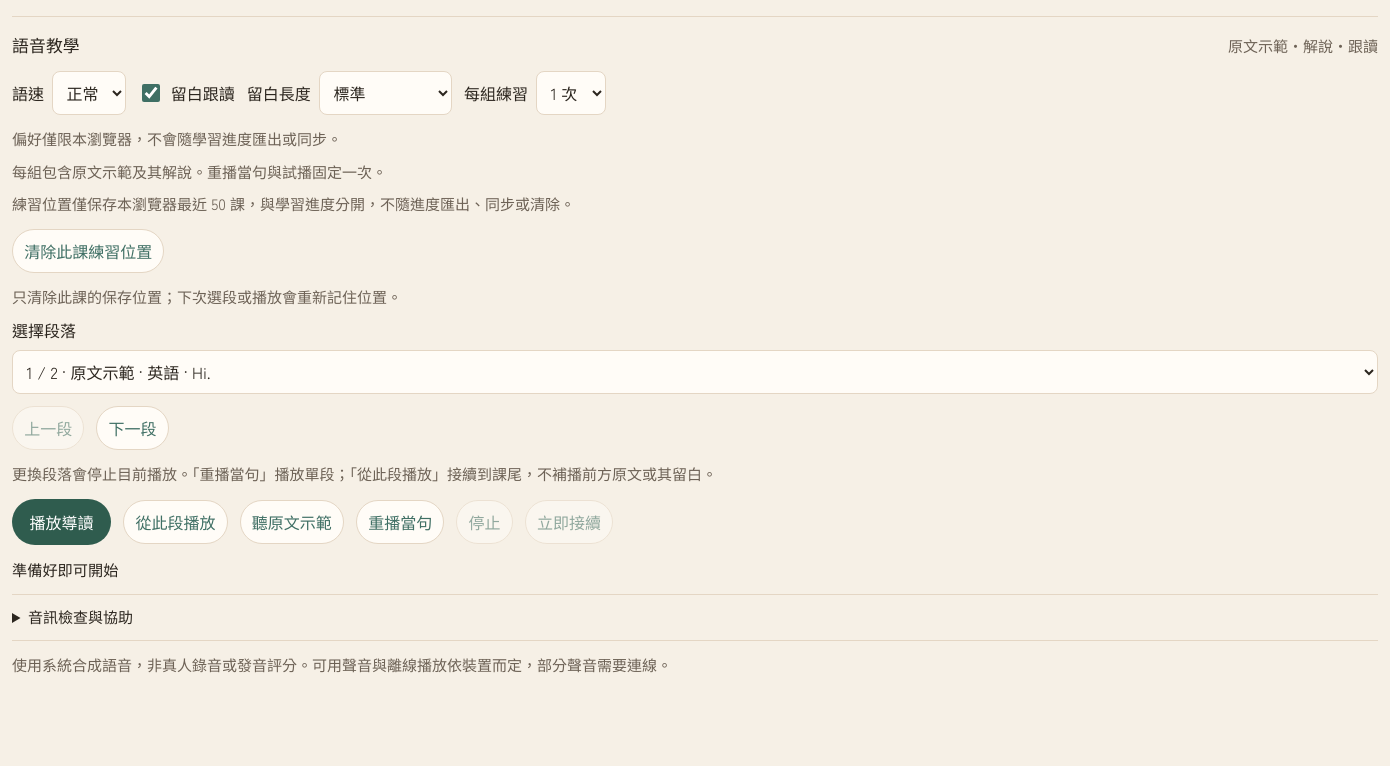
Test: 語音教學的真實元件互動 › 位置儲存失敗保留選段且明示限制，成功後清除提示
This screenshot has width=1390, height=766.
Select "2 / 2 · 原文示範 · 英語 · Bye." in the dropdown labelled "選擇段落". click: (695,372)
box: [12, 350, 1378, 394]
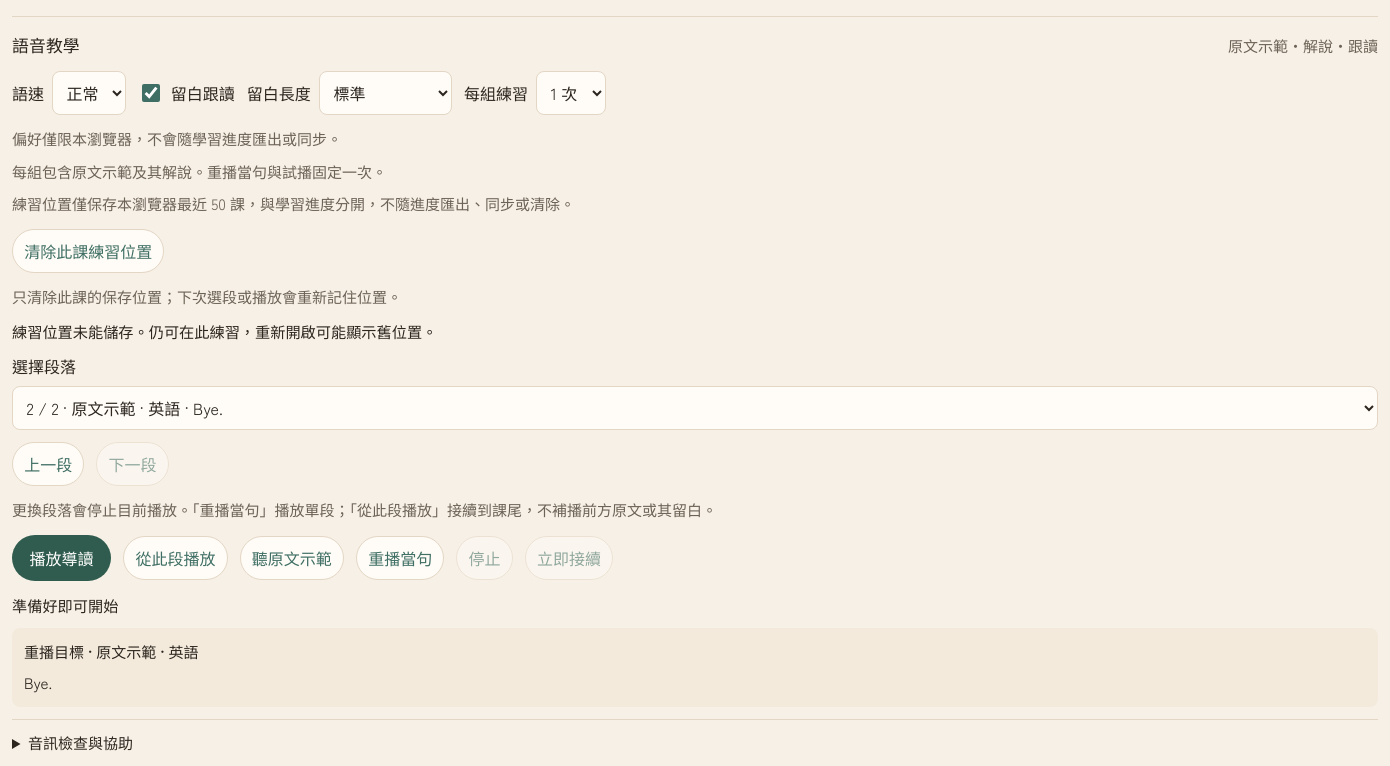
Now the message "練習位置未能儲存。仍可在此練習，重新開啟可能顯示舊位置。" is shown, box [12, 320, 437, 342]
Click the button "重播當句". click: (400,558)
box: [356, 536, 444, 580]
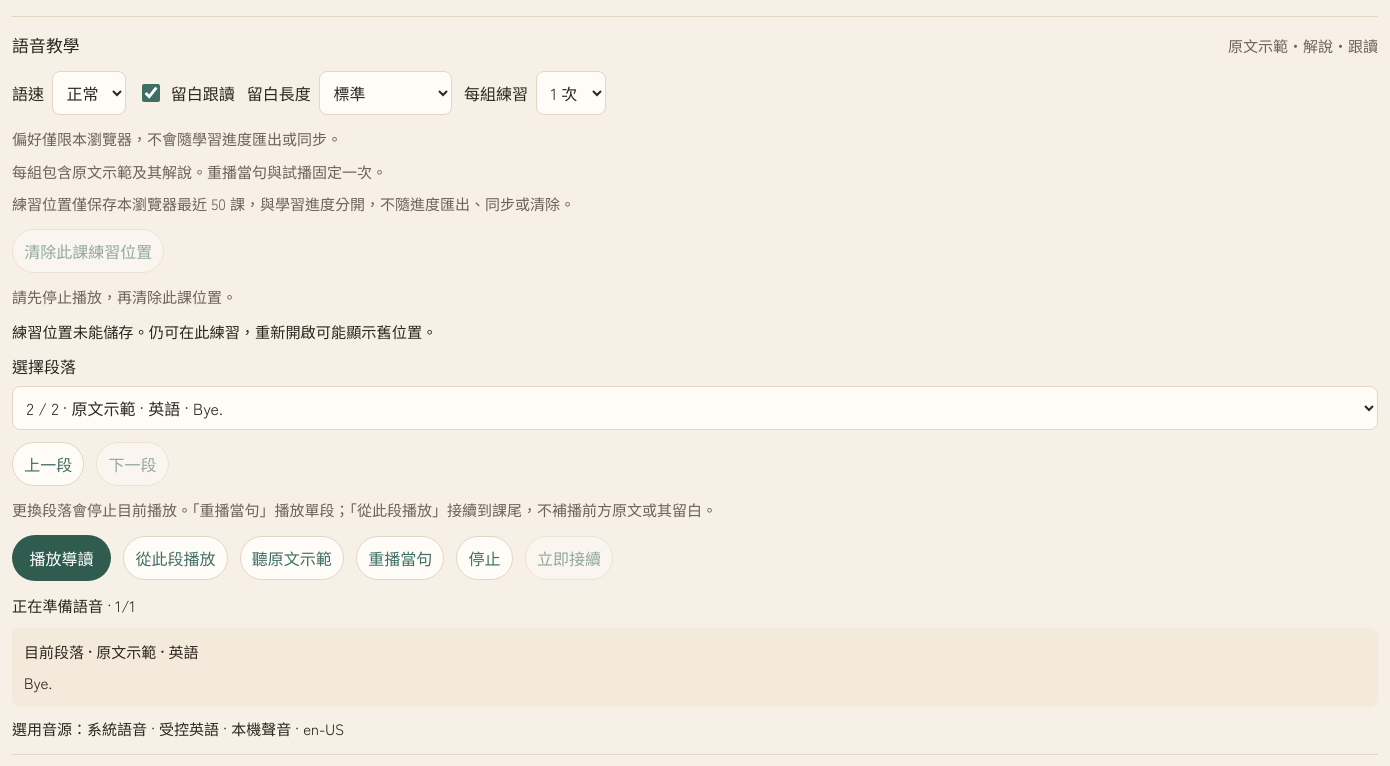
Select "1 / 2 · 原文示範 · 英語 · Hi." in the dropdown labelled "選擇段落". click: (695,408)
box: [12, 386, 1378, 430]
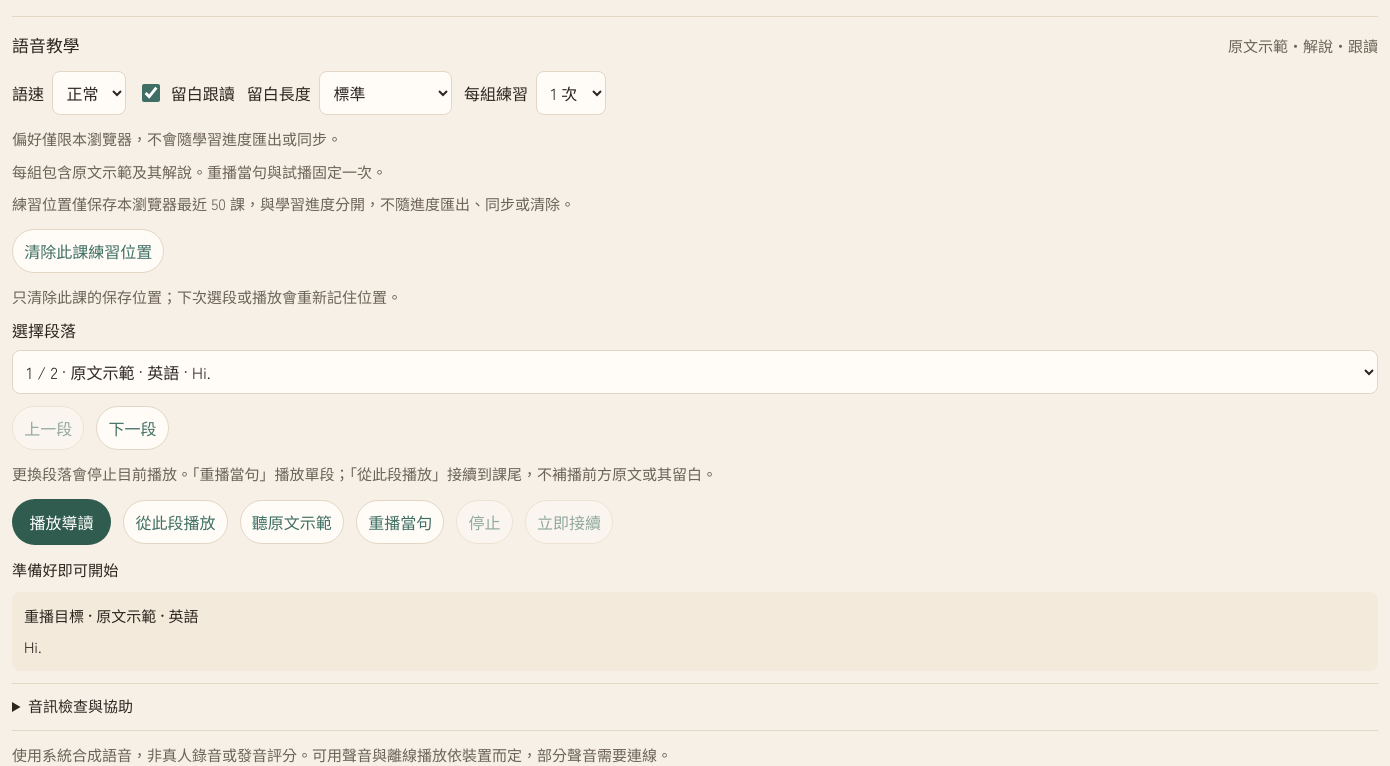
Now the message "練習位置未能儲存。仍可在此練習，重新開啟可能顯示舊位置。" is gone
